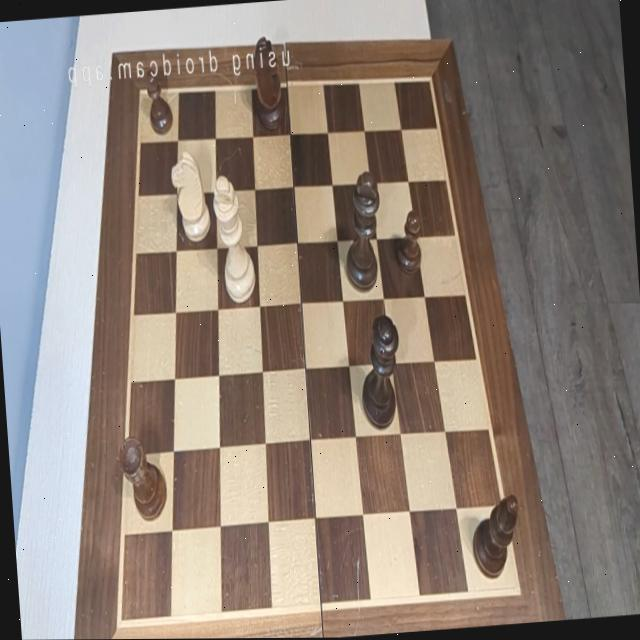black_bishop: (469, 494, 523, 581)
black_king: (339, 170, 385, 292)
black_knight: (250, 35, 286, 131)
black_pawn: (392, 209, 425, 276), (145, 67, 174, 136)
black_queen: (355, 313, 405, 430)
black_rook: (117, 435, 167, 524)
white_king: (212, 175, 256, 304)
white_knight: (170, 148, 210, 244)
